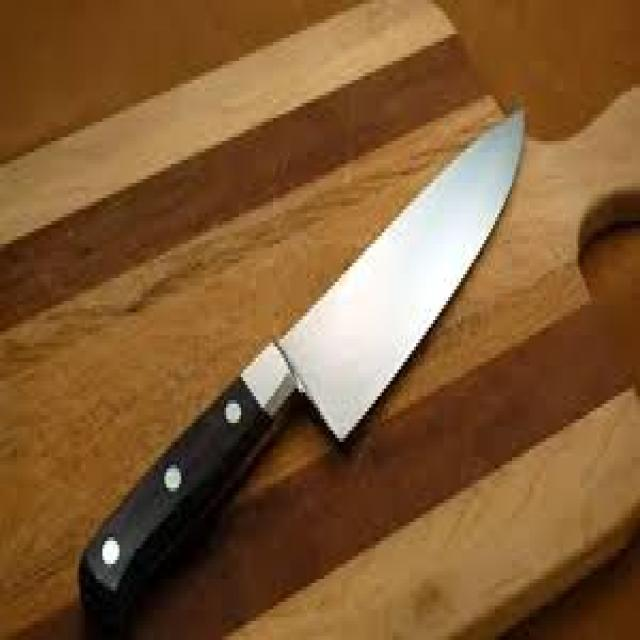Knife: (81, 114, 523, 598)
